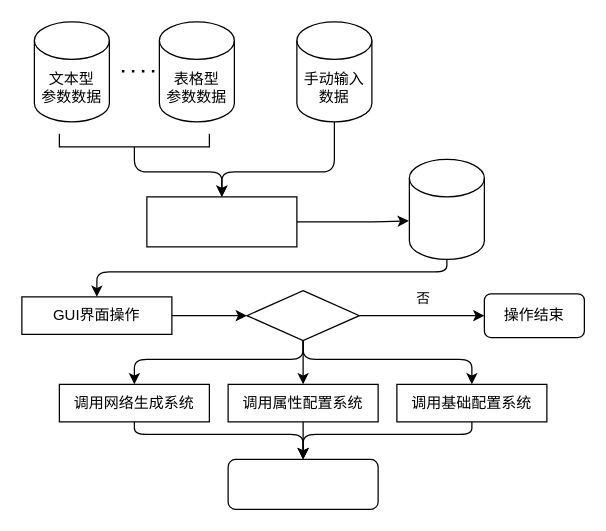
The diagram is 606 pixels wide and 531 high, and some of its shapes have lost their labels. Here are the shapes that lost their labels. From the top down, the centre of each, then its label:
point 221,221: 参数加载系统
point 446,208: 读取到的数据
point 302,315: 生成网络
point 302,483: 完成网络拓扑结构 生成操作
